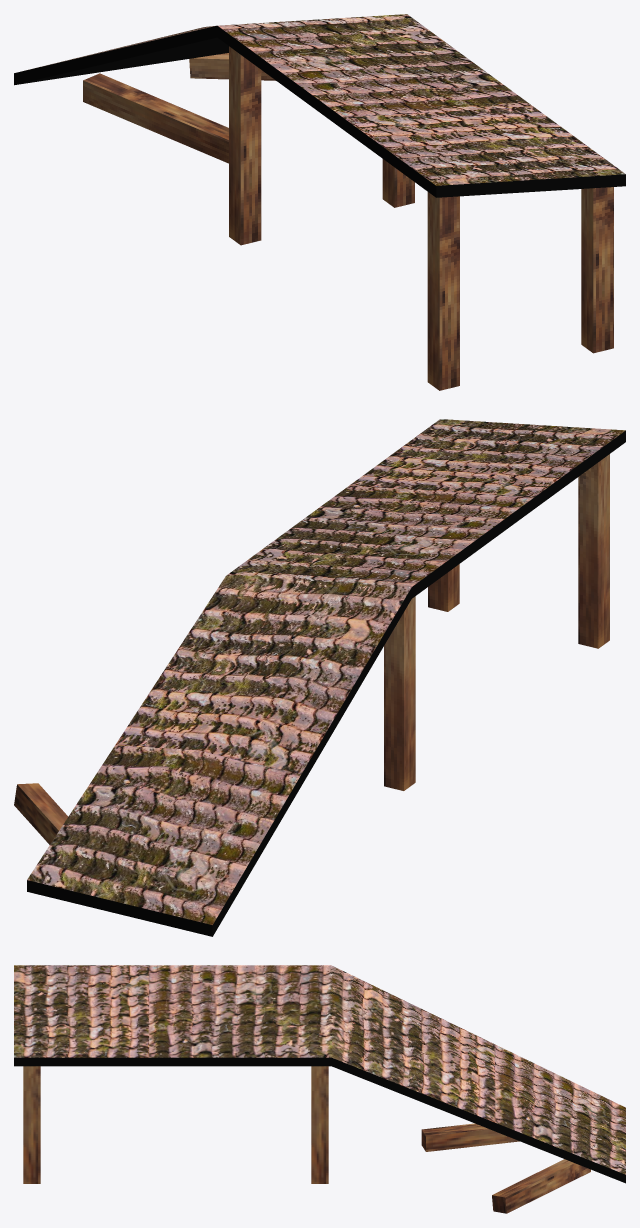
The model's file is roof_side.fbx.
3 renders of one model, top to bottom at view 1: azimuth 30°, elevation 25°; view 2: azimuth 150°, elevation 25°; view 3: azimuth 270°, elevation 25°, orthographic. The views are drawn at different scales.
Visible parts, largest first — view 1: Roof, Support.012, Support.017, Support.015, Support.013, Support.016, Support.011; view 2: Roof, Support.012, Support.017, Support.011, Support.015; view 3: Roof, Support.011, Support.015, Support.016, Support.013.
Part boxes in pixels (x1=…): Roof: x1=14, y1=14, x2=625, y2=197; Support.012: x1=427, y1=192, x2=459, y2=390; Support.017: x1=229, y1=46, x2=261, y2=245; Support.015: x1=581, y1=187, x2=613, y2=353; Support.013: x1=83, y1=73, x2=228, y2=163; Support.016: x1=382, y1=159, x2=414, y2=207; Support.011: x1=189, y1=53, x2=275, y2=80; Roof: x1=27, y1=419, x2=625, y2=936; Support.012: x1=578, y1=454, x2=609, y2=648; Support.017: x1=384, y1=596, x2=415, y2=790; Support.011: x1=14, y1=783, x2=68, y2=844; Support.015: x1=428, y1=564, x2=459, y2=611; Roof: x1=14, y1=965, x2=625, y2=1183; Support.011: x1=492, y1=1159, x2=590, y2=1213; Support.015: x1=23, y1=1066, x2=40, y2=1183; Support.016: x1=311, y1=1066, x2=328, y2=1183; Support.013: x1=421, y1=1123, x2=519, y2=1151.
Size of the model in its own units: 784 by 557 by 2011.
